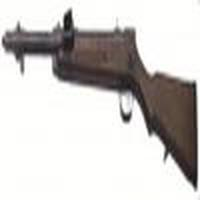gun: (1, 7, 200, 162)
